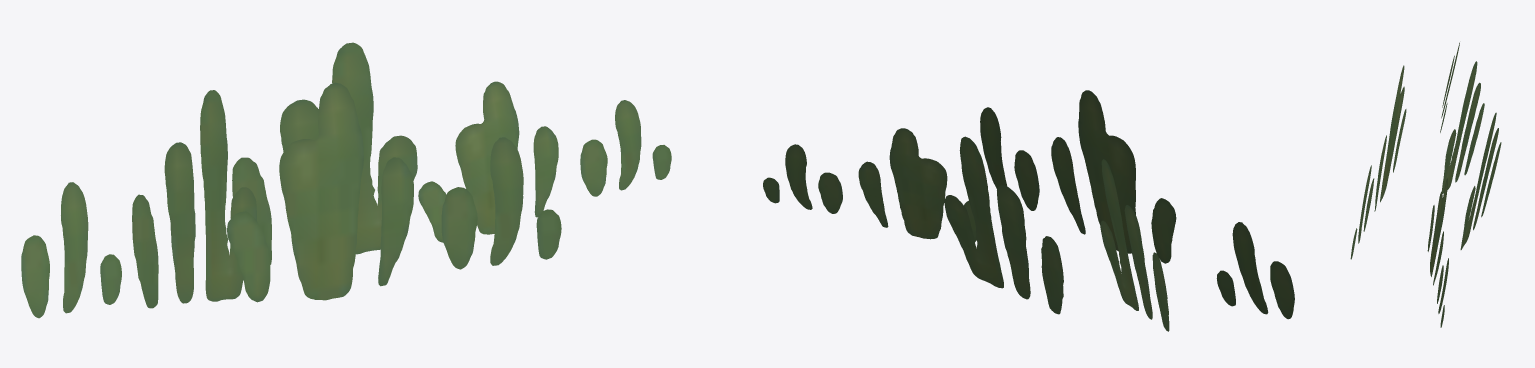
File: pref_sm_beach_techsgrass08_lv2.fbx
3 renders of one model, left to right at view 1: azimuth 30°, elevation 25°; view 2: azimuth 150°, elevation 25°; view 3: azimuth 270°, elevation 25°, orthographic. The views are drawn at different scales.
Visible parts, largest first — view 1: pref_sm_beach_techsgrass08_lv2; view 2: pref_sm_beach_techsgrass08_lv2; view 3: pref_sm_beach_techsgrass08_lv2.
Boxes of the visible parts, x1=… form: pref_sm_beach_techsgrass08_lv2: x1=21, y1=42, x2=671, y2=318; pref_sm_beach_techsgrass08_lv2: x1=763, y1=90, x2=1294, y2=331; pref_sm_beach_techsgrass08_lv2: x1=1350, y1=42, x2=1501, y2=327.
Bounding box in the file's own units: 1.5 × 0.5503 × 0.486.
